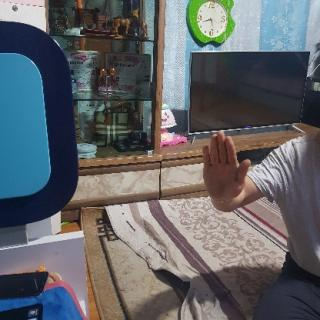SEEN: (198, 129, 252, 208)
